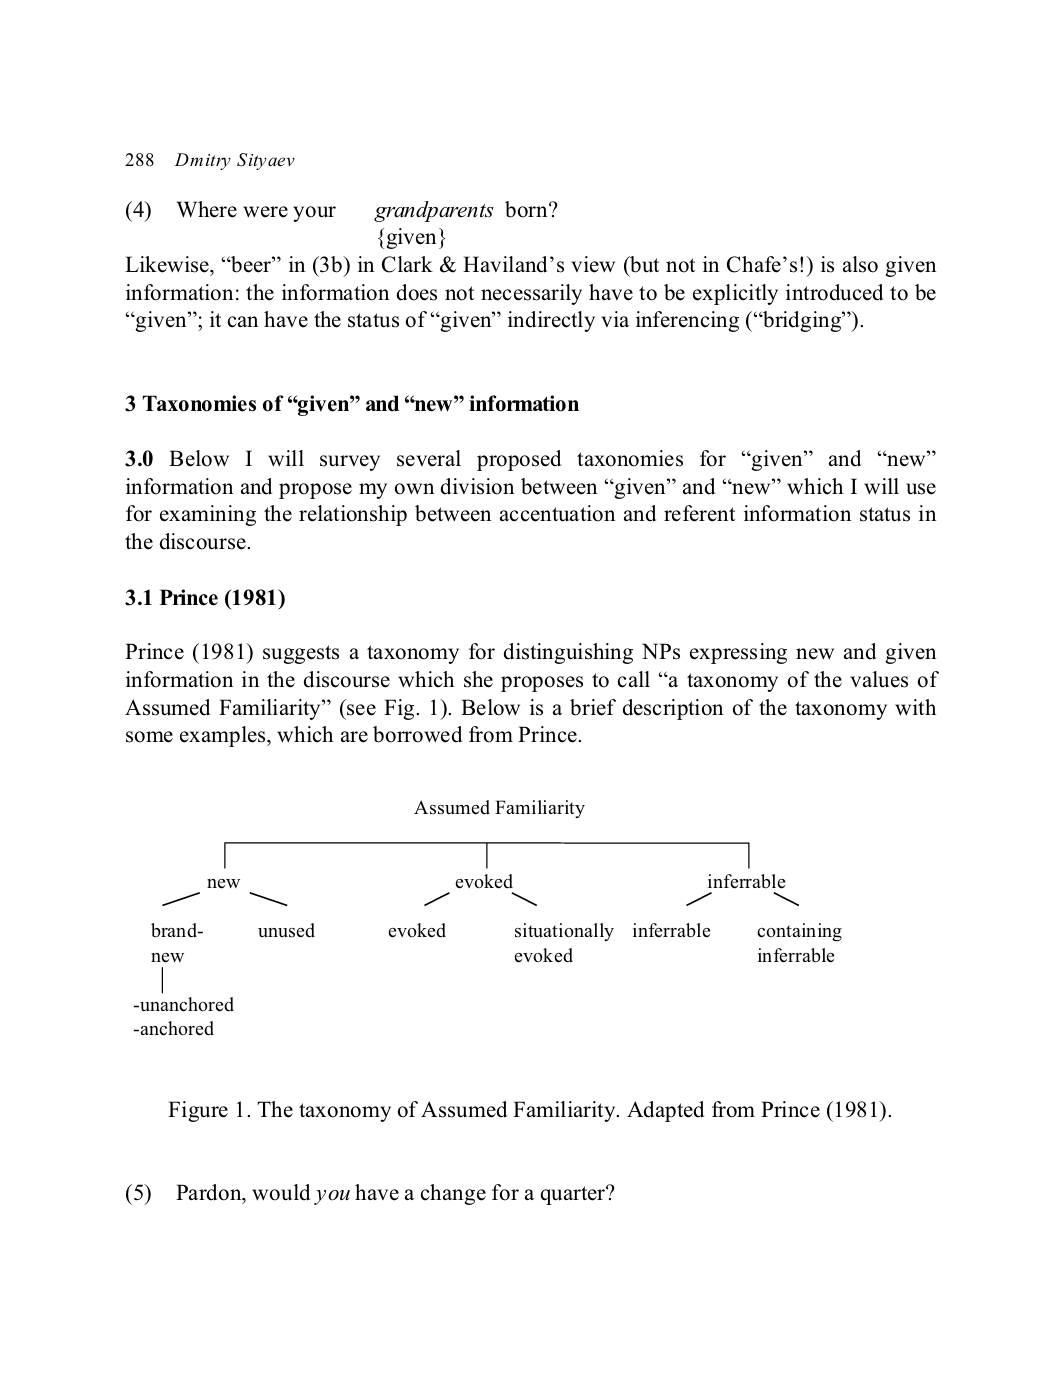figure: (133, 800, 841, 1035)
